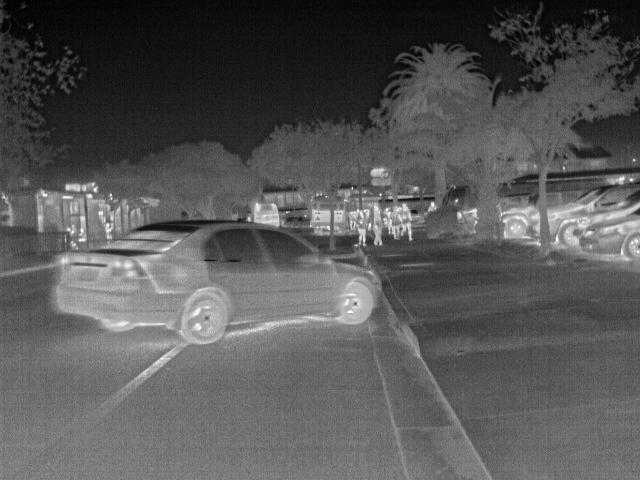car: (52, 220, 385, 345), (550, 192, 633, 245), (545, 181, 635, 222), (579, 212, 633, 260), (499, 203, 534, 239), (457, 206, 479, 232), (408, 209, 421, 222)
person: (397, 201, 415, 241), (353, 209, 370, 249), (372, 204, 386, 248), (102, 220, 114, 239), (425, 198, 438, 214), (75, 227, 88, 242)
